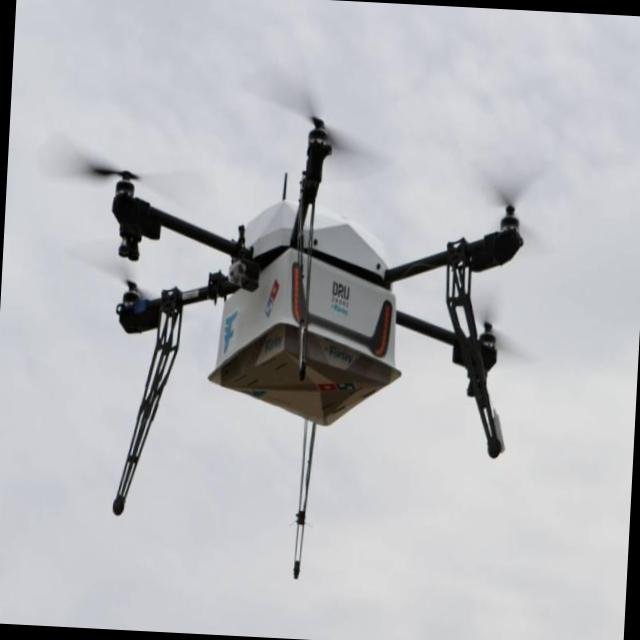drone: (69, 89, 534, 592)
